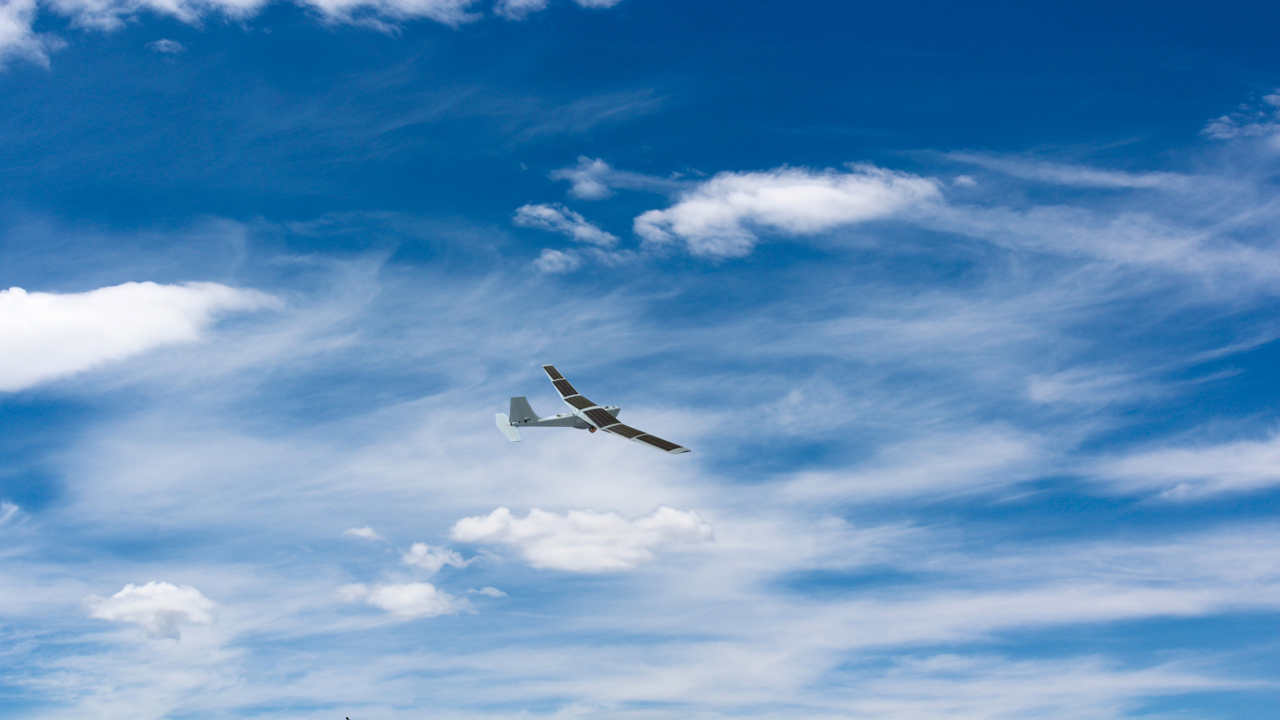military drone: (494, 363, 690, 455)
